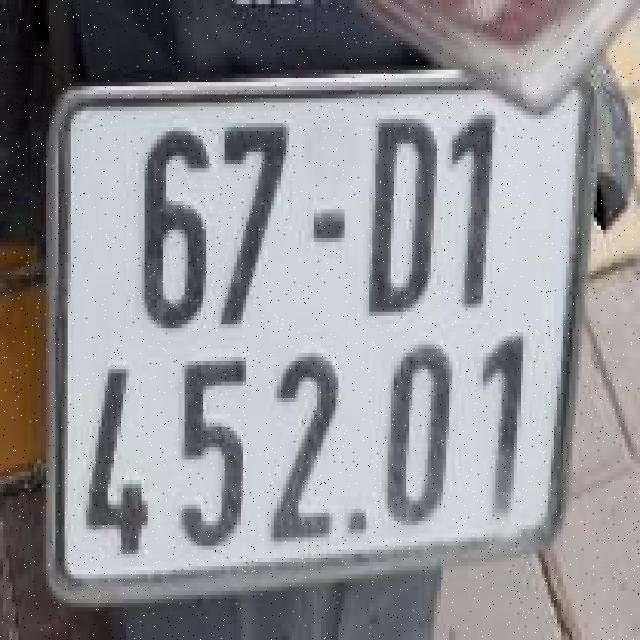0: (383, 340, 451, 538)
1: (451, 100, 506, 314), (481, 326, 534, 531)
2: (270, 340, 342, 554)
4: (81, 353, 156, 562)
5: (175, 347, 252, 556)
6: (136, 115, 212, 340)
7: (218, 107, 302, 328)
D: (360, 101, 443, 322)
